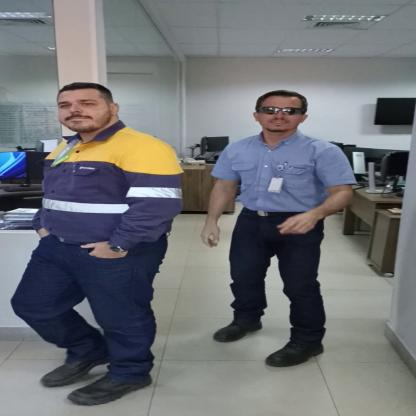Operacional: (23, 133, 191, 256)
